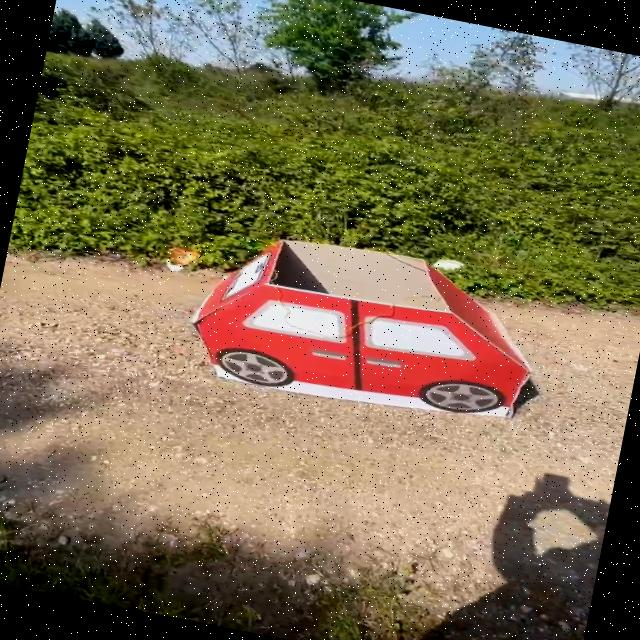red_car: (169, 202, 588, 450)
